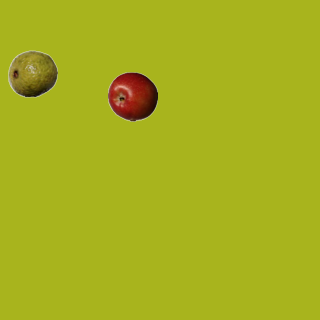Apple Braeburn: (107, 71, 157, 121)
Guava: (7, 48, 57, 98)
